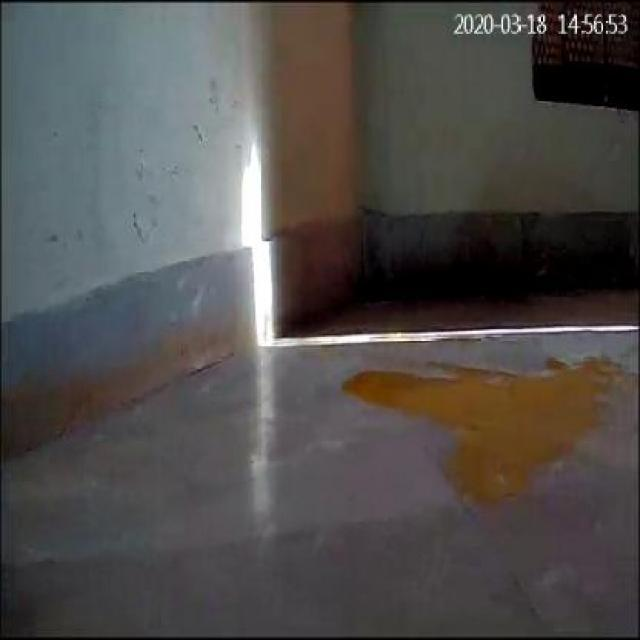spill: (340, 357, 622, 505)
